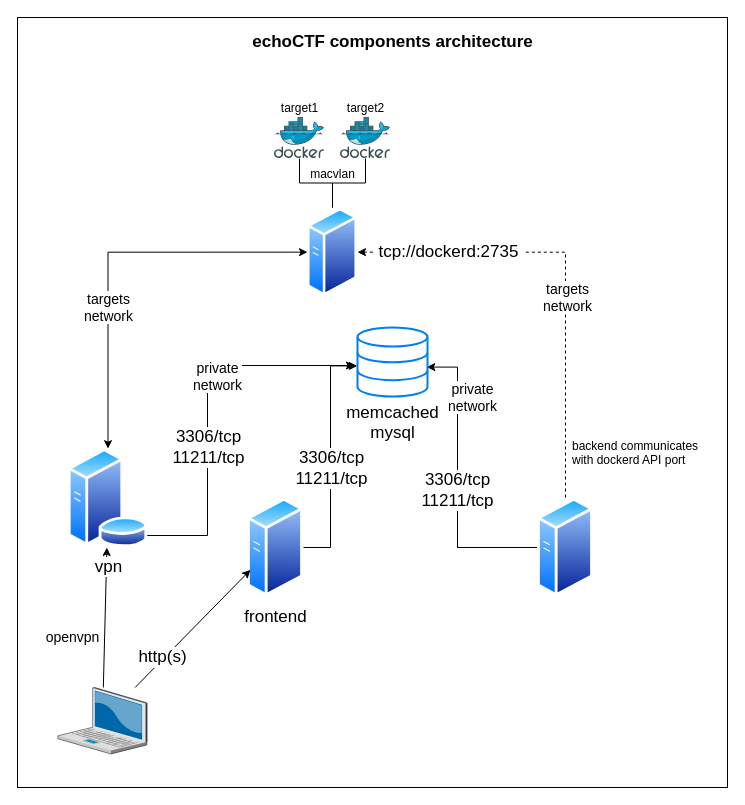
Some shapes in this 745 by 805 pixel diagram are drawn without their labels. Each missing label, with the box of its shape:
backend: (537, 497, 593, 597)
dockerd: (307, 207, 357, 296)
Player: (57, 687, 147, 754)
